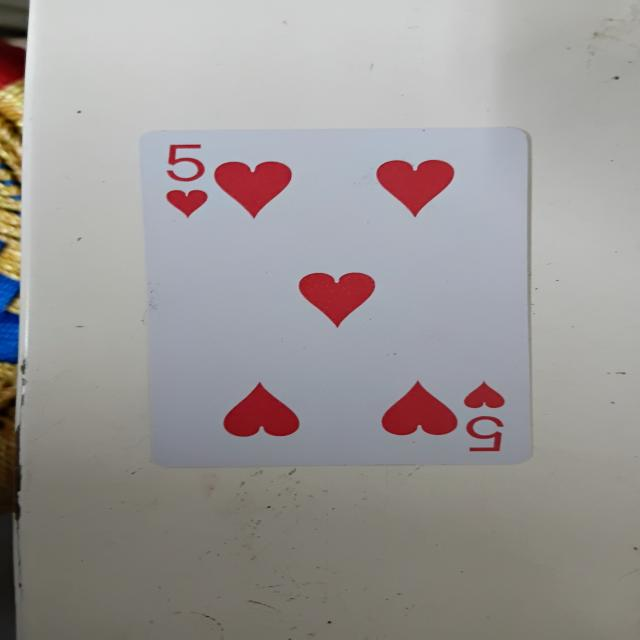5H: (136, 131, 535, 469)
